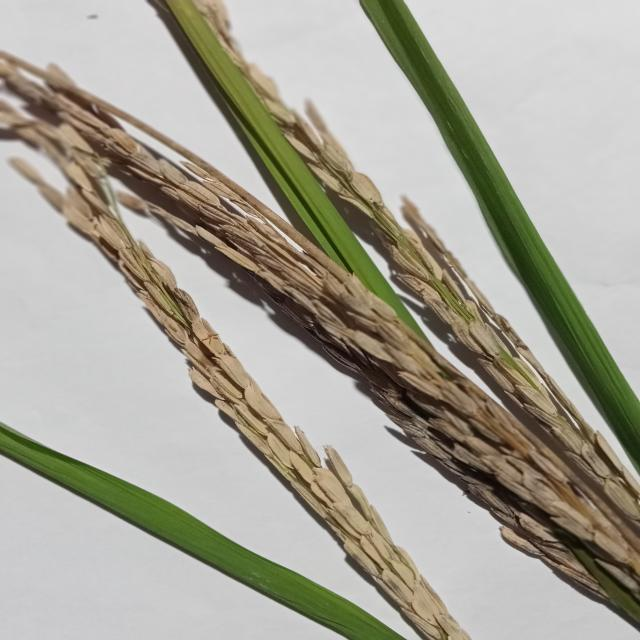Neck_Blast: (0, 43, 640, 640), (35, 162, 472, 640)
